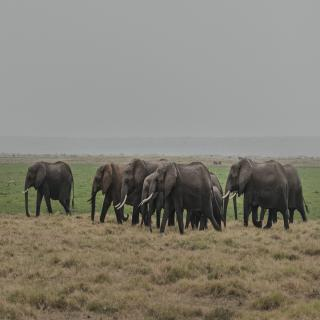Elephant: (145, 155, 222, 239), (219, 149, 293, 234), (22, 156, 76, 218), (86, 160, 125, 226), (115, 154, 147, 232)
